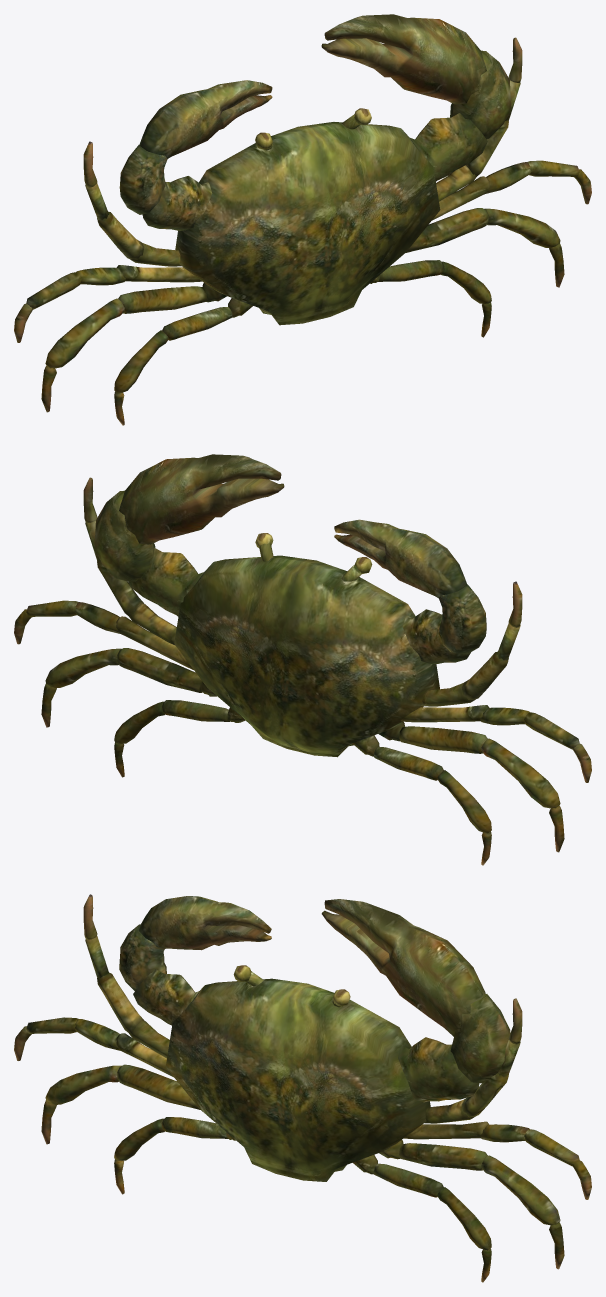
File: green-crab.glb
The picture shows the model from 3 angles, top to bottom: view 1: azimuth 30°, elevation 25°; view 2: azimuth 150°, elevation 25°; view 3: azimuth 330°, elevation 25°; orthographic projection.
Parts seen in each view (by area): view 1: green-crab; view 2: green-crab; view 3: green-crab.
Boxes of the visible parts, left/top/right/bottom form: green-crab: left=14, top=14, right=591, bottom=425; green-crab: left=14, top=454, right=591, bottom=865; green-crab: left=14, top=894, right=591, bottom=1282.
Bounding box in the file's own units: 3.92 × 2.28 × 0.4798.
Materials: 1 (1 with a texture image).
